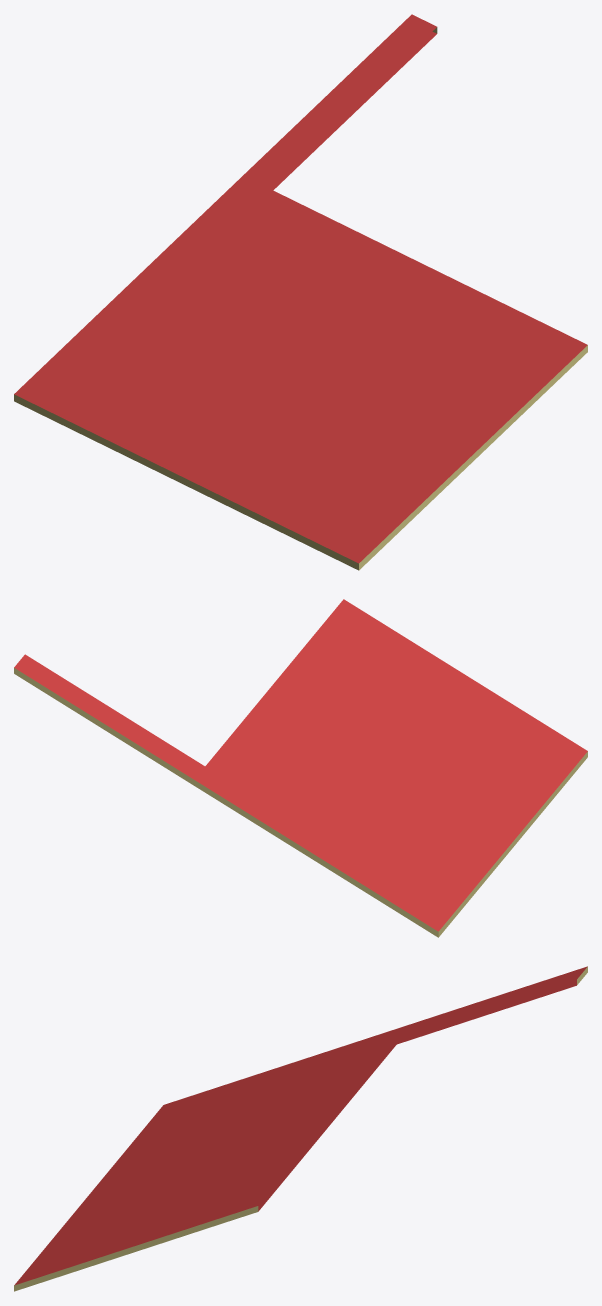
The picture shows the model from 3 angles, top to bottom: view 1: azimuth 30°, elevation 25°; view 2: azimuth 150°, elevation 25°; view 3: azimuth 330°, elevation 25°; orthographic projection. The views are drawn at different scales.
Bounding box in the file's own units: 6.68 × 7.89 × 3.42.
